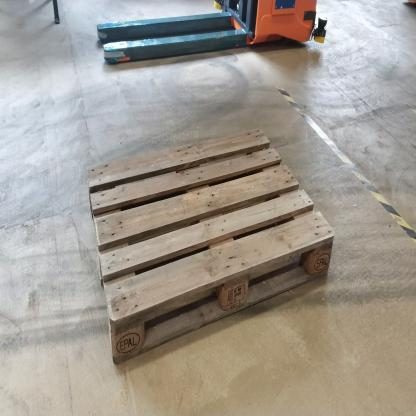BoxFace: (86, 120, 339, 375)
